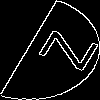Z: (25, 25, 100, 71)
